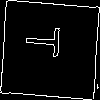T: (24, 24, 69, 59)
